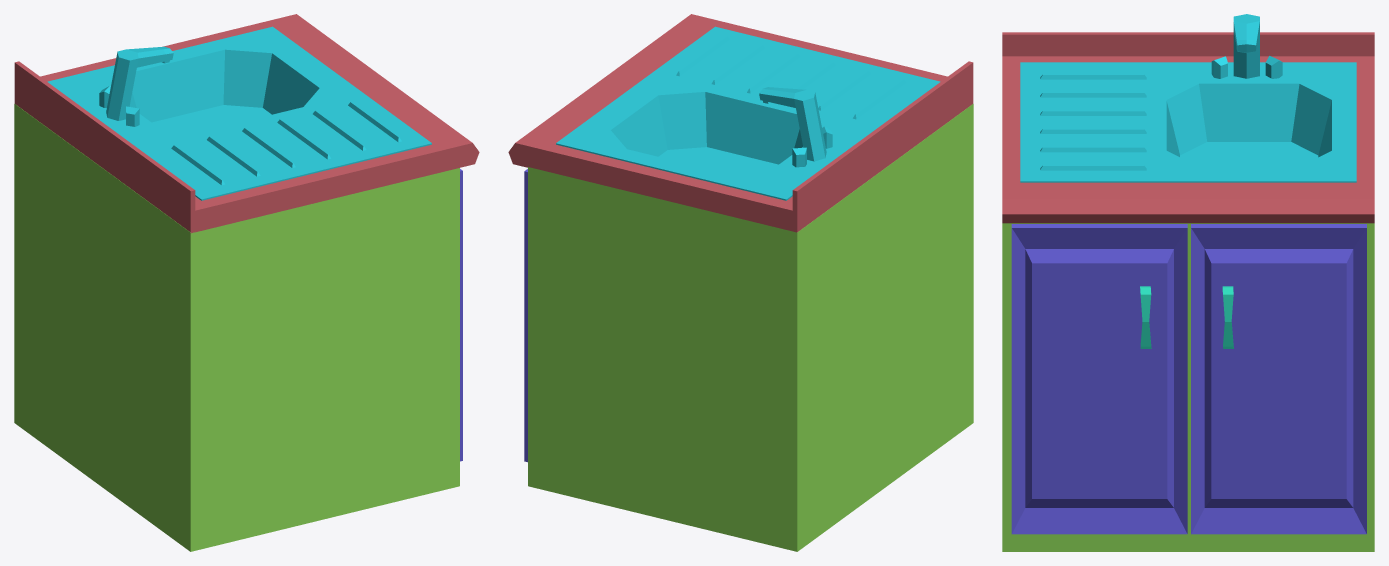
Rendered from kitchensink.fbx.
The picture shows the model from 3 angles, left to right: view 1: azimuth 30°, elevation 25°; view 2: azimuth 150°, elevation 25°; view 3: azimuth 270°, elevation 25°; orthographic projection. The views are drawn at different scales.
Parts seen in each view (by area): view 1: cupboard, sink, countertop, margin, faucet, grate, doors; view 2: cupboard, sink, countertop, margin, faucet, grate, doors; view 3: doors, sink, countertop, cupboard, margin, grate, faucet, handles.
Part boxes in pixels (x1,y1,x2,y2): cupboard: (14,103,459,551); sink: (47,26,431,200); countertop: (40,14,479,232); margin: (14,61,195,233); faucet: (99,46,173,126); grate: (171,102,401,185); doors: (460,169,462,461); cupboard: (528,103,973,551); sink: (556,26,940,200); countertop: (508,14,947,231); margin: (792,61,973,232); faucet: (759,87,832,167); grate: (676,36,906,119); doors: (524,169,527,462); doors: (1011,224,1366,534); sink: (1020,62,1356,182); countertop: (1002,56,1374,223); cupboard: (1002,223,1374,551); margin: (1002,32,1374,56); grate: (1040,74,1146,170); faucet: (1211,14,1282,78); handles: (1140,286,1233,348).
Size of the model in its own units: 189 by 250 by 200.
